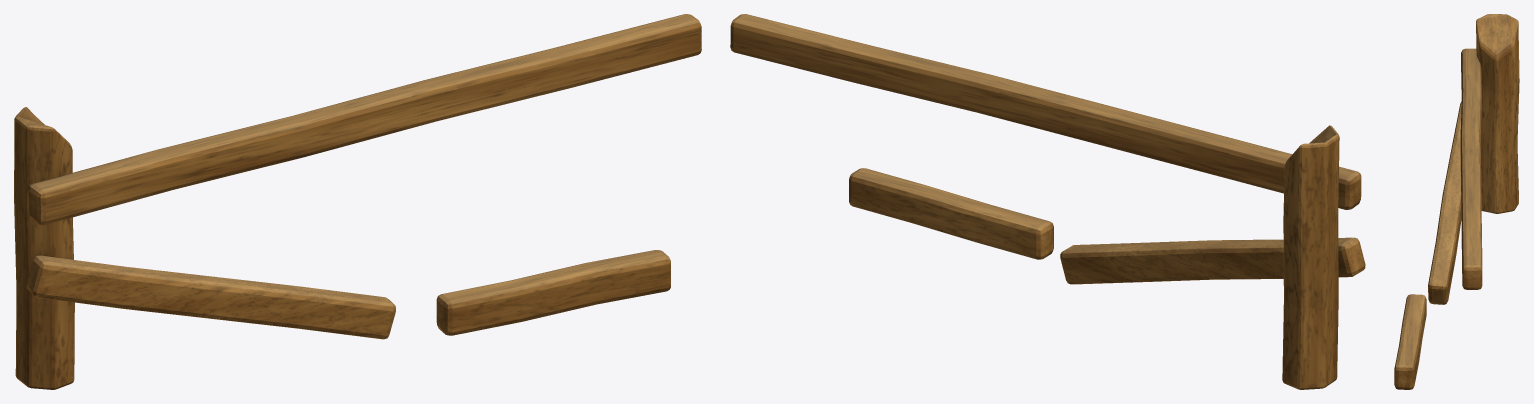
The model's file is rail_fence_broken.glb.
The picture shows the model from 3 angles, left to right: view 1: azimuth 30°, elevation 25°; view 2: azimuth 150°, elevation 25°; view 3: azimuth 270°, elevation 25°; orthographic projection. The views are drawn at different scales.
Visible parts, largest first — view 1: rail_fence_broken; view 2: rail_fence_broken; view 3: rail_fence_broken.
Boxes of the visible parts, x1,y1,x2,y2 form: rail_fence_broken: (14, 14, 701, 389); rail_fence_broken: (730, 14, 1365, 389); rail_fence_broken: (1394, 14, 1519, 389).
Size of the model in its own units: 2.66 by 1 by 0.6154.
Materials: 1 (1 with a texture image).
